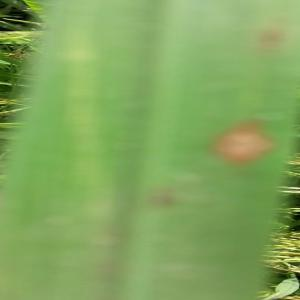Rice_Blast: (203, 111, 291, 177)
